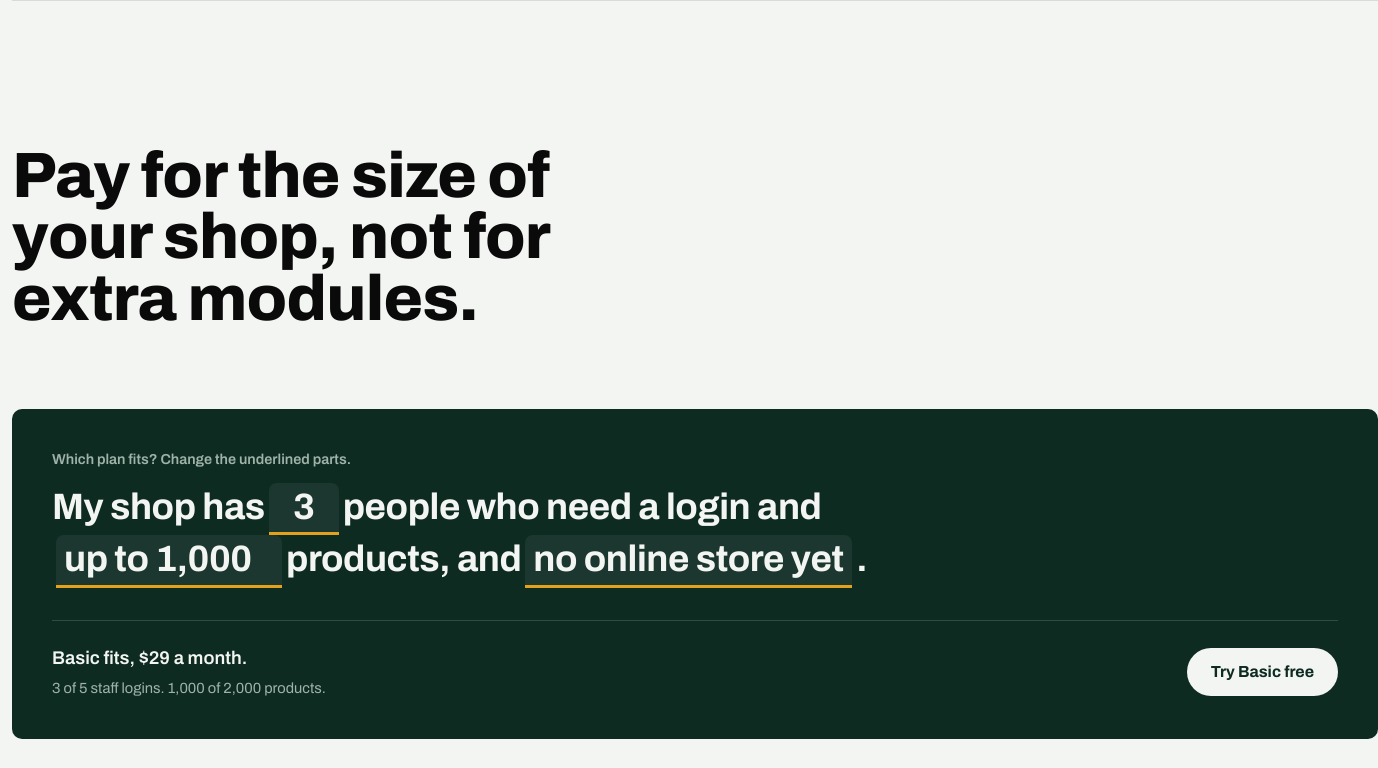
Test: Pricing › only recommends plans with the online store when one is wanted
The width and height of the screenshot is (1378, 768).
Select "an online store" in the 2nd dropdown named "Do you want an online store?" at [689, 562], box x1=525 y1=536 x2=852 y2=588
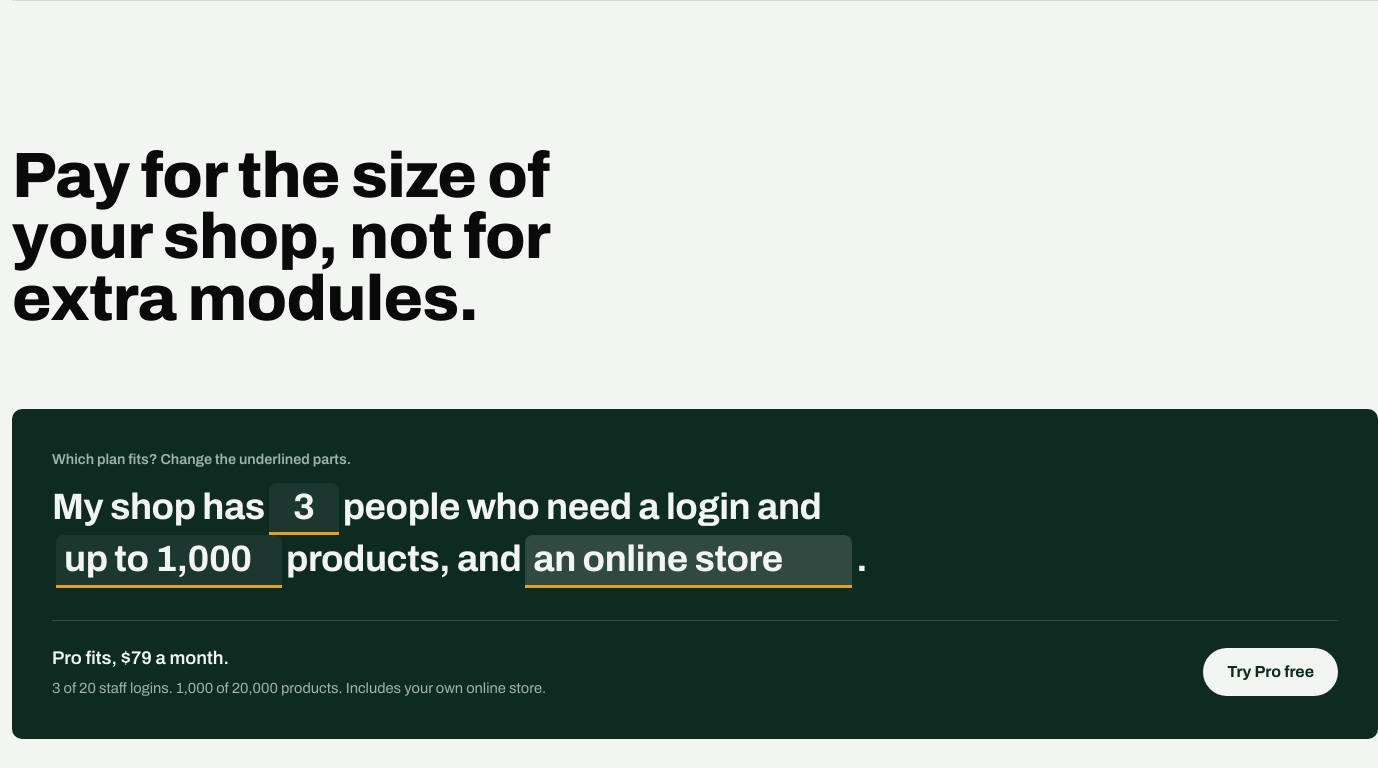
expect the text "Pro fits, $79 a month." is shown: met, box x1=52 y1=648 x2=229 y2=668
